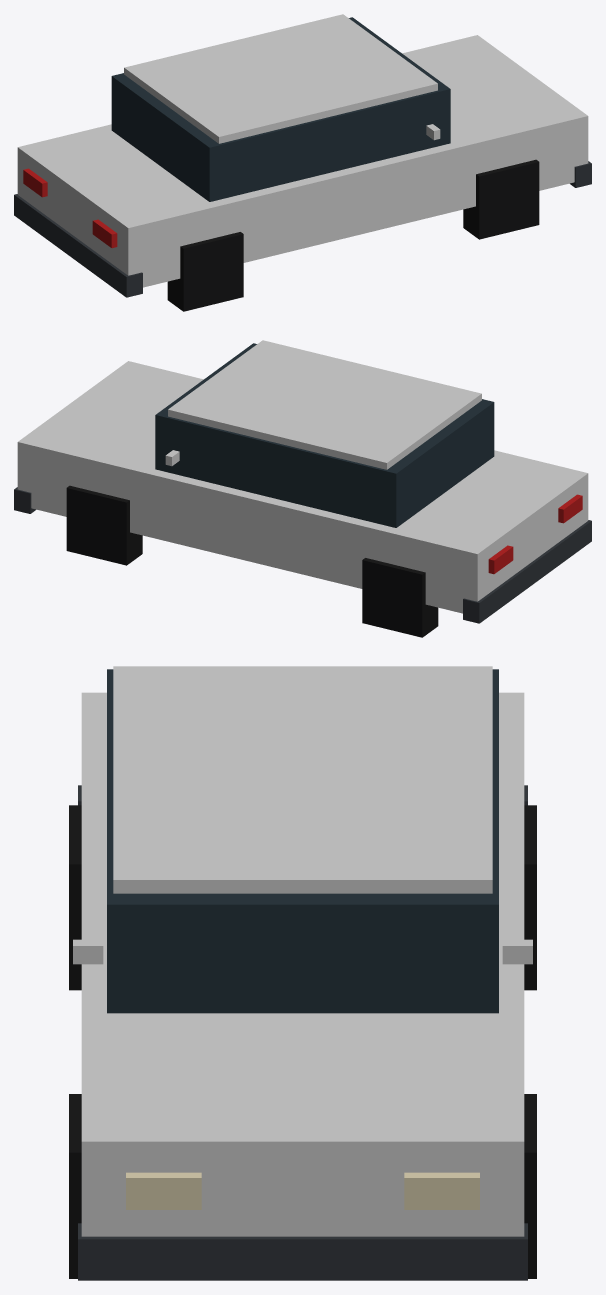
The model's file is street_car.glb.
The picture shows the model from 3 angles, top to bottom: view 1: azimuth 30°, elevation 25°; view 2: azimuth 150°, elevation 25°; view 3: azimuth 270°, elevation 25°; orthographic projection. The views are drawn at different scales.
Parts seen in each view (by area): view 1: StreetCar_mat0; view 2: StreetCar_mat0; view 3: StreetCar_mat0.
Part boxes in pixels (x1=…): StreetCar_mat0: x1=14, y1=14, x2=591, y2=311; StreetCar_mat0: x1=14, y1=340, x2=591, y2=637; StreetCar_mat0: x1=69, y1=666, x2=536, y2=1280.
Size of the model in its own units: 4.3 by 1.36 by 1.85.
